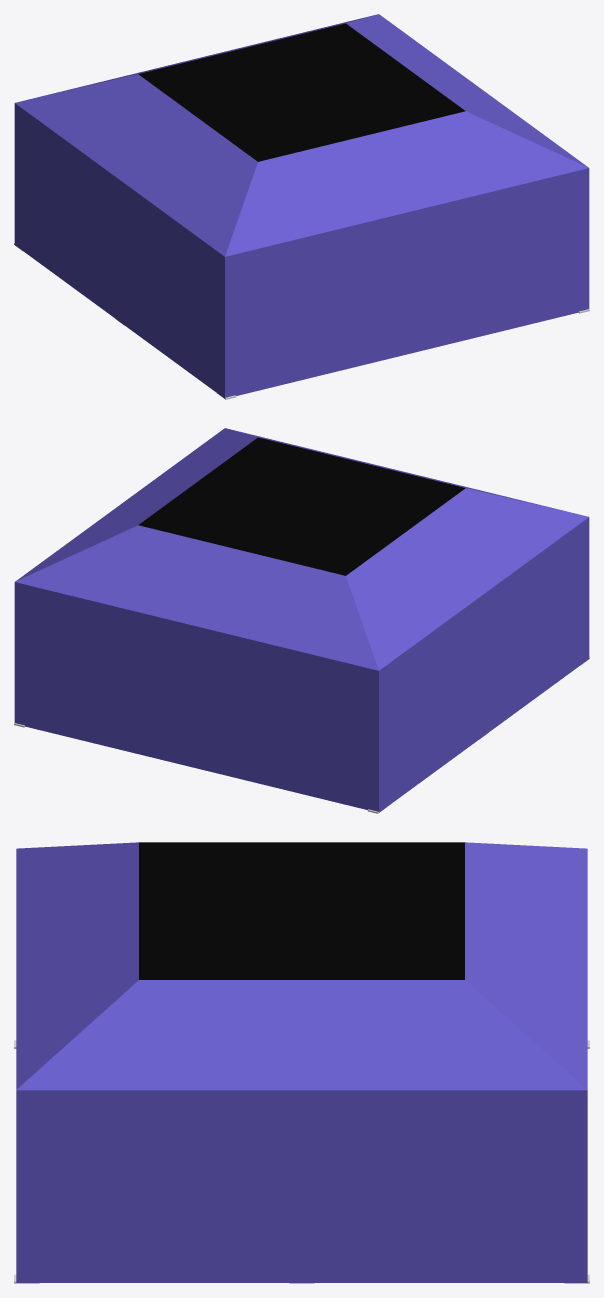
File: gym.fbx
The picture shows the model from 3 angles, top to bottom: view 1: azimuth 30°, elevation 25°; view 2: azimuth 150°, elevation 25°; view 3: azimuth 270°, elevation 25°; orthographic projection. The views are drawn at different scales.
Parts seen in each view (by area): view 1: GymBuilding; view 2: GymBuilding; view 3: GymBuilding.
Boxes of the visible parts, x1,y1,x2,y2 form: GymBuilding: (14, 14, 589, 398); GymBuilding: (14, 428, 589, 812); GymBuilding: (16, 842, 587, 1282).
Size of the model in its own units: 1968 by 956 by 1984.
